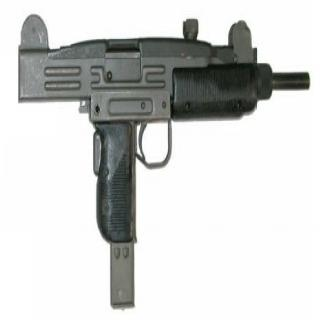gun: (14, 9, 312, 307)
